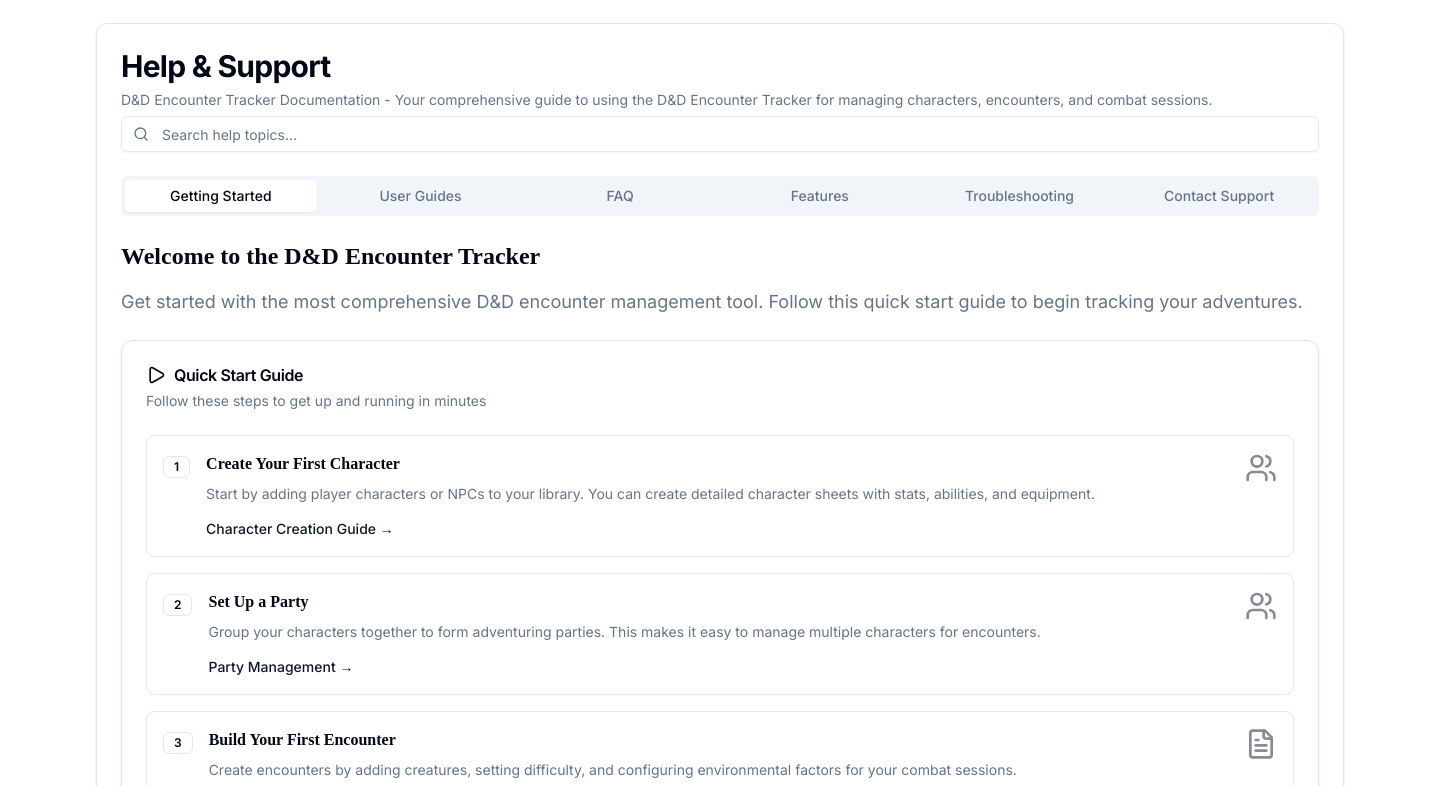
HelpPage Component › Features Section › includes subscription tier information
Click the tab "Features".
click(820, 196)  # box [724,180,916,212]
(page scrolled)
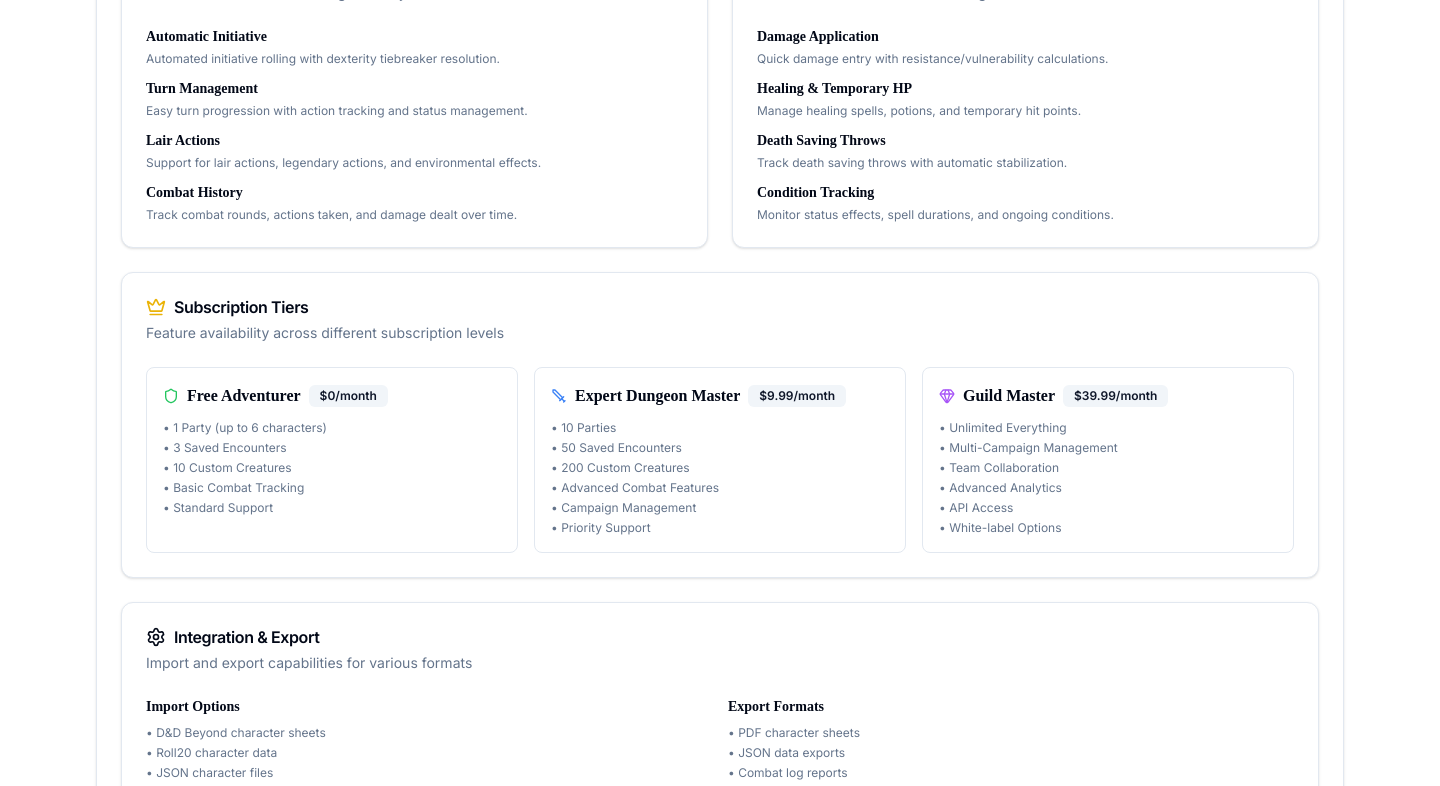
Expected: the text "Subscription Tiers" is shown, [146,297,308,317]
Expected: the heading "Free Adventurer" is shown, [187,384,301,408]
Expected: the heading "Expert Dungeon Master" is shown, [575,384,740,408]
